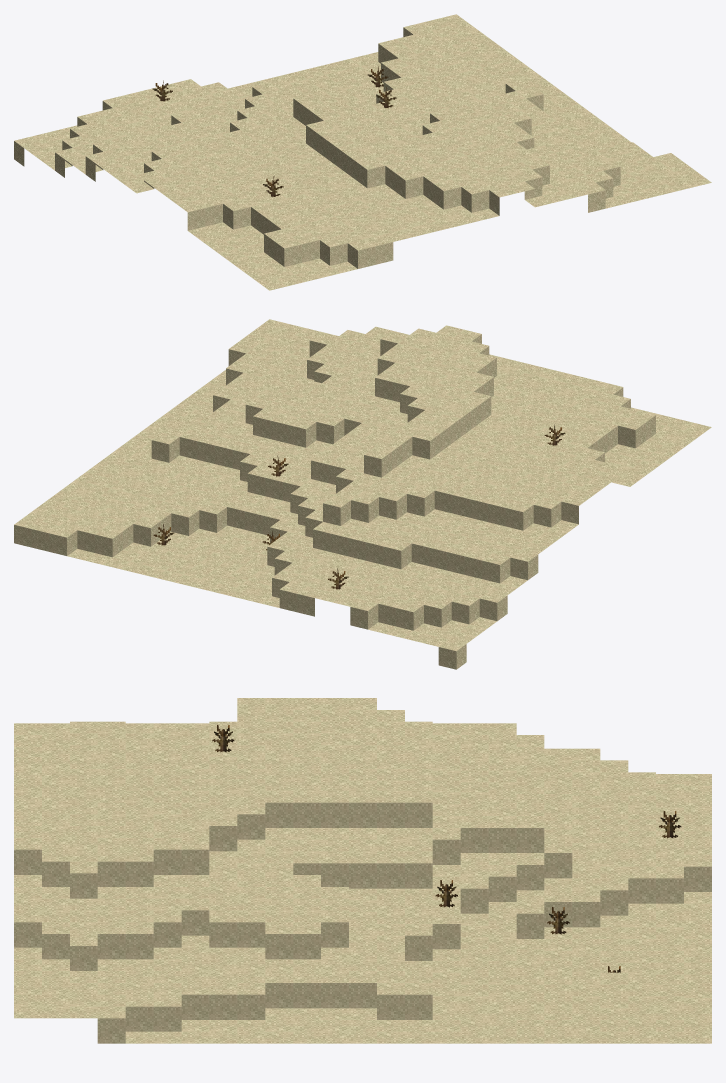
File: chunk50-550-lvl-1-transformed.glb
3 views of the same model, one above another, from view 1: azimuth 30°, elevation 25°; view 2: azimuth 150°, elevation 25°; view 3: azimuth 270°, elevation 25° (orthographic). The views are drawn at different scales.
Visible parts, largest first — view 1: Sand, Dead_Bush; view 2: Sand, Dead_Bush; view 3: Sand, Dead_Bush.
Boxes of the visible parts, x1,y1,x2,y2 form: Sand: (14, 14, 711, 290); Dead_Bush: (152, 66, 396, 196); Sand: (14, 319, 711, 669); Dead_Bush: (153, 424, 565, 589); Sand: (14, 698, 711, 1043); Dead_Bush: (212, 725, 681, 972).
Bounding box in the file's own units: 25 × 5 × 25.
2 materials, 2 textured.
